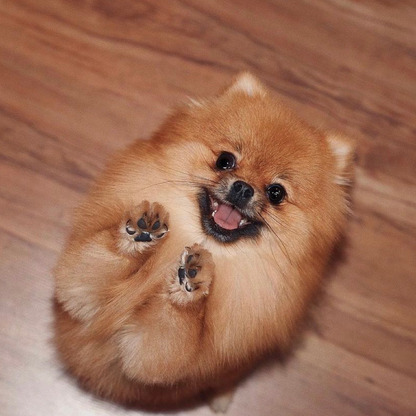Pomeranian: (45, 69, 375, 402)
